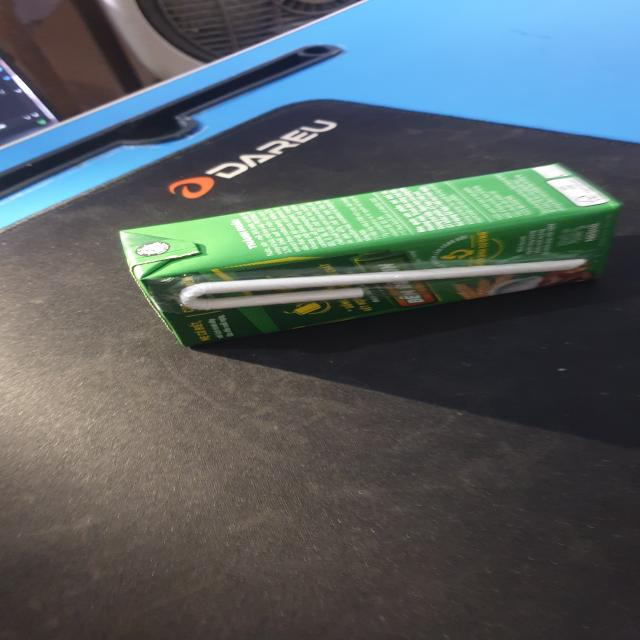Milo: (119, 162, 628, 349)
